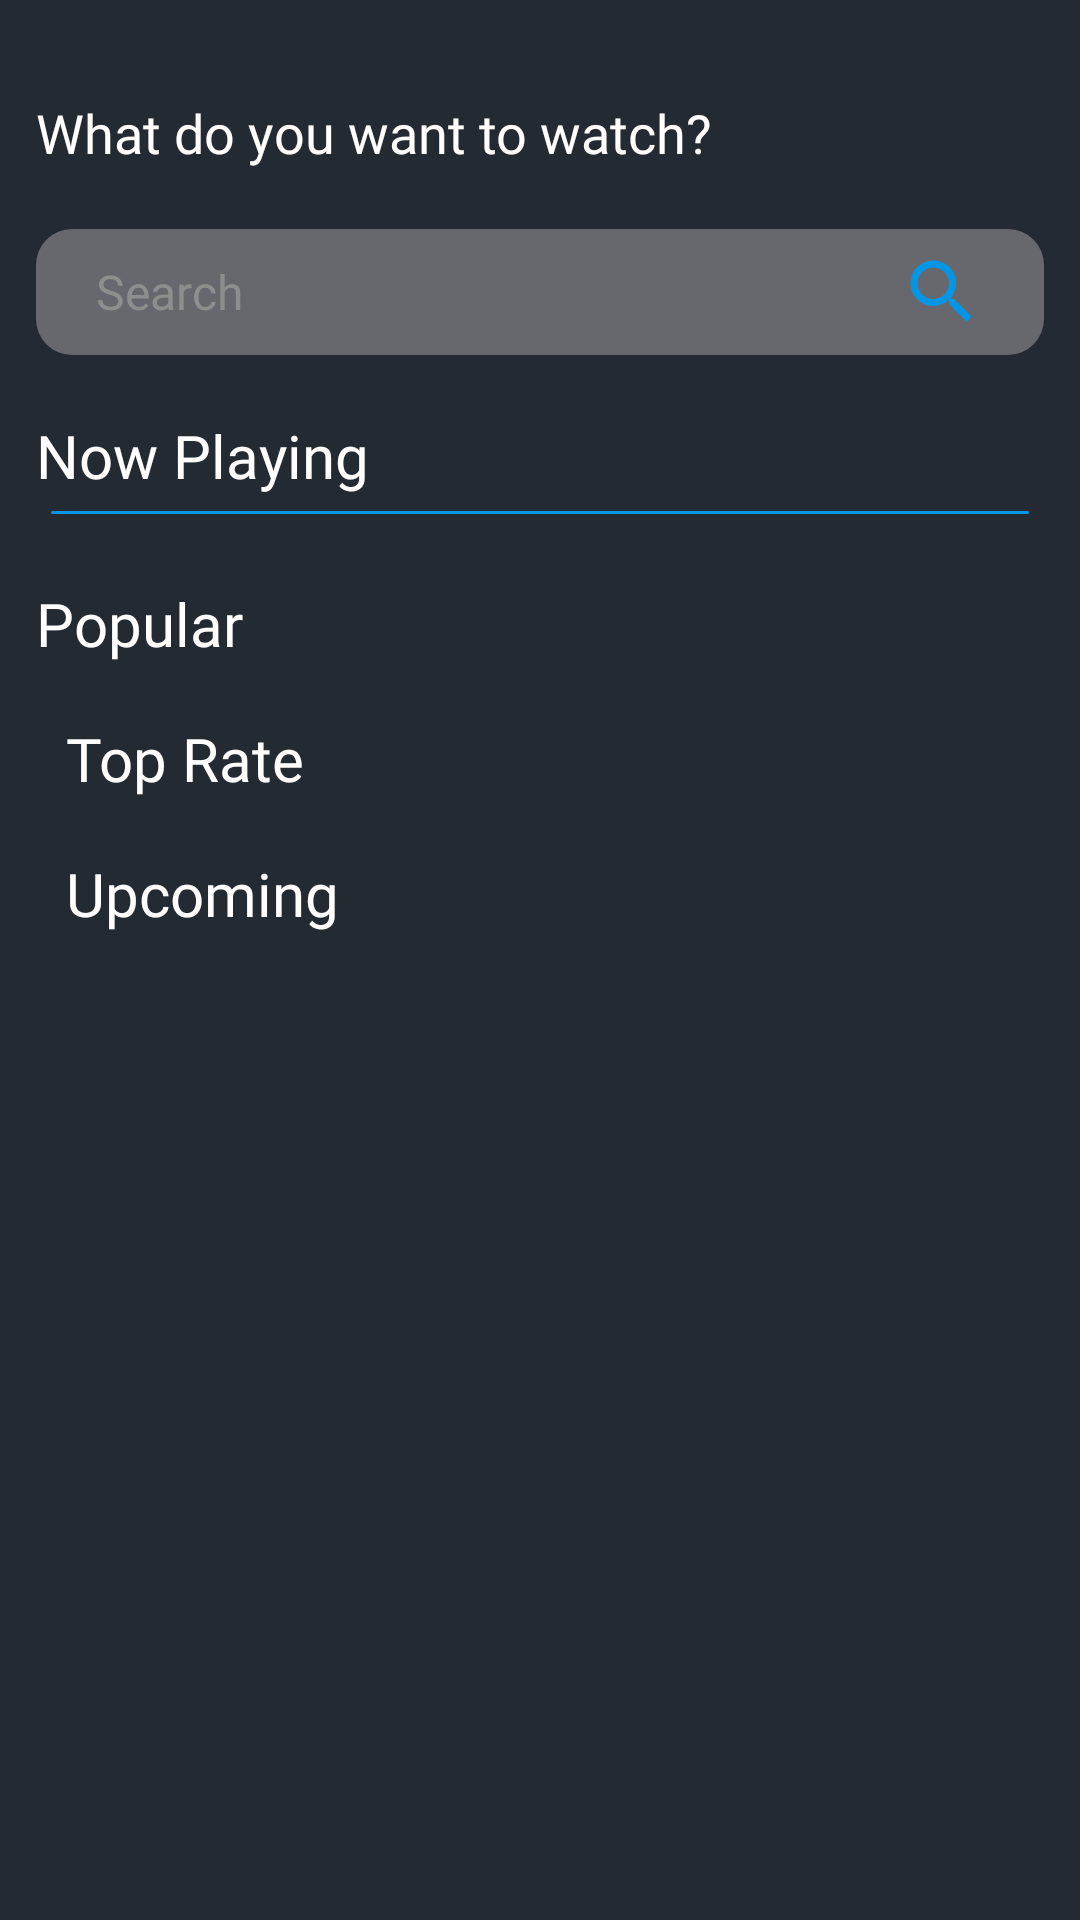

Named icons in this screenshot (1080w x 1920h) and their bounding boxes, (x1, y1, x2, y2):
search two: (910, 260, 972, 322)
